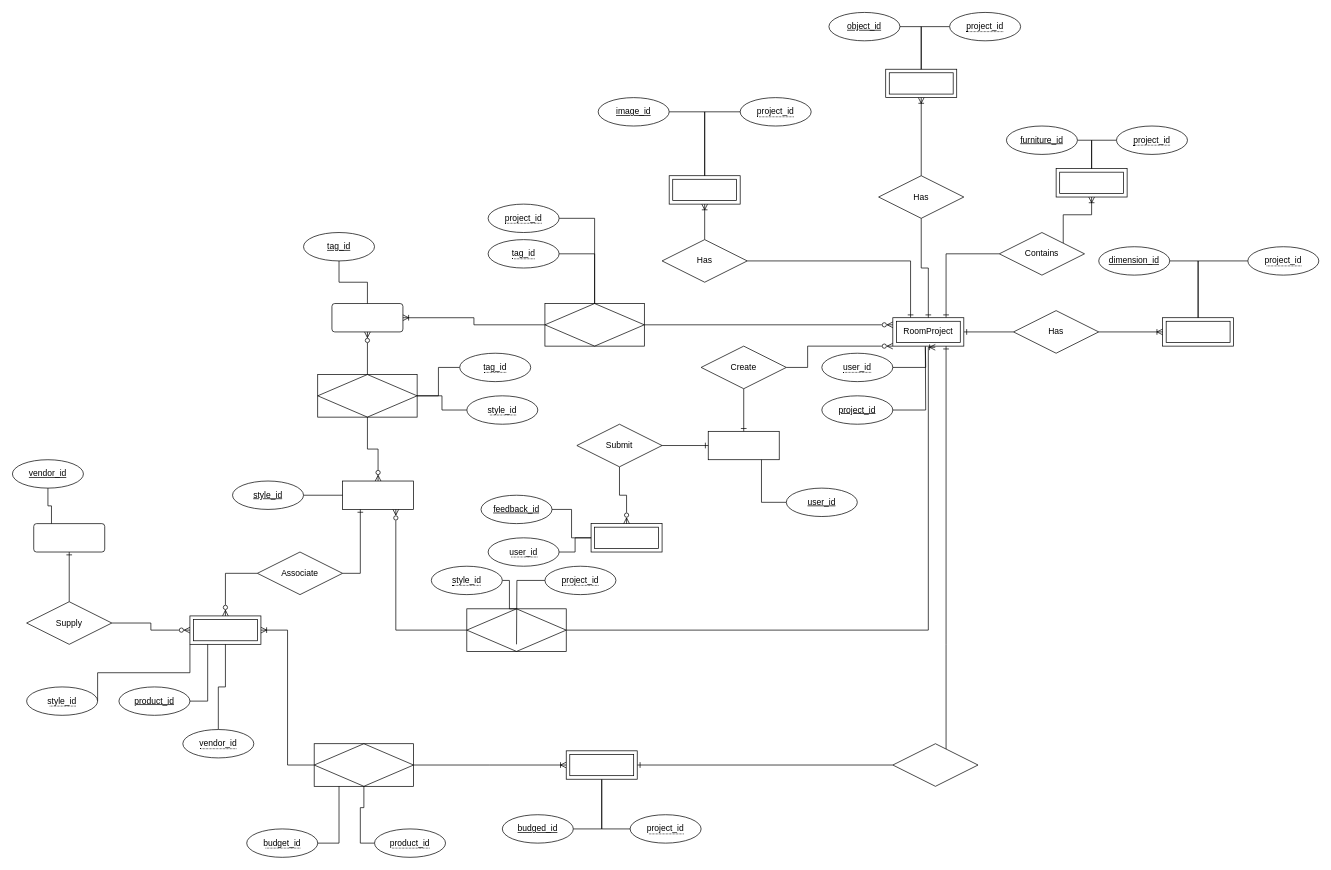
The diagram is 1331 pixels wide and 870 high, and some of its shapes have lost their labels. Each missing label, with the centre of its shape:
"Belong" belongs at point (935, 764).
"BudgetAllocation" belongs at point (363, 764).
"BudgetPlan" belongs at point (601, 764).
"Feedback" belongs at point (626, 537).
"ProductItem" belongs at point (225, 629).
"ResemblanceScore" belongs at point (516, 629).
"RoomDimension" belongs at point (1198, 331).
"RoomFurniture" belongs at point (1091, 182).
"RoomImage" belongs at point (704, 189).
"RoomObject" belongs at point (921, 83).
"RoomTag" belongs at point (594, 324).
"Style" belongs at point (378, 494).
"StyleTag" belongs at point (367, 395).
"Tag" belongs at point (367, 317).
"User" belongs at point (743, 445).
"Vendor" belongs at point (69, 537).
